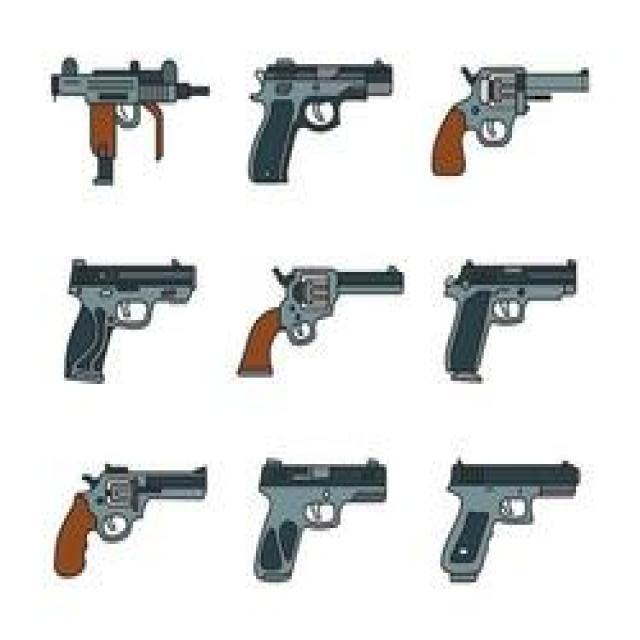pistol: (215, 242, 417, 398), (43, 433, 227, 594), (236, 427, 400, 601), (242, 42, 400, 197), (60, 238, 202, 404), (432, 231, 582, 381), (436, 442, 578, 599), (430, 60, 592, 193)
smg: (42, 42, 208, 203)
